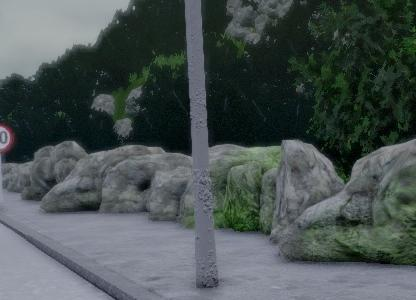Speed_90: (0, 123, 15, 153)
